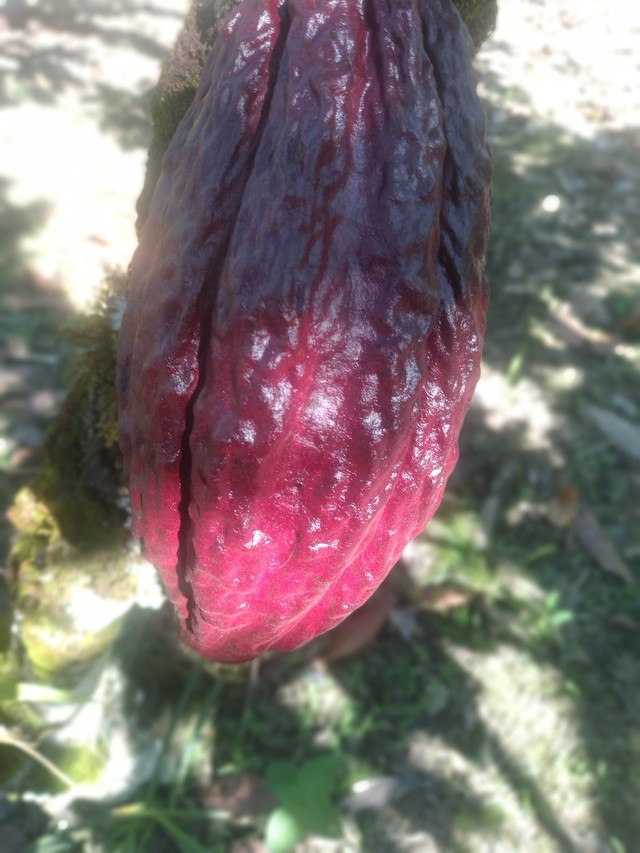Health: (99, 0, 526, 678)
